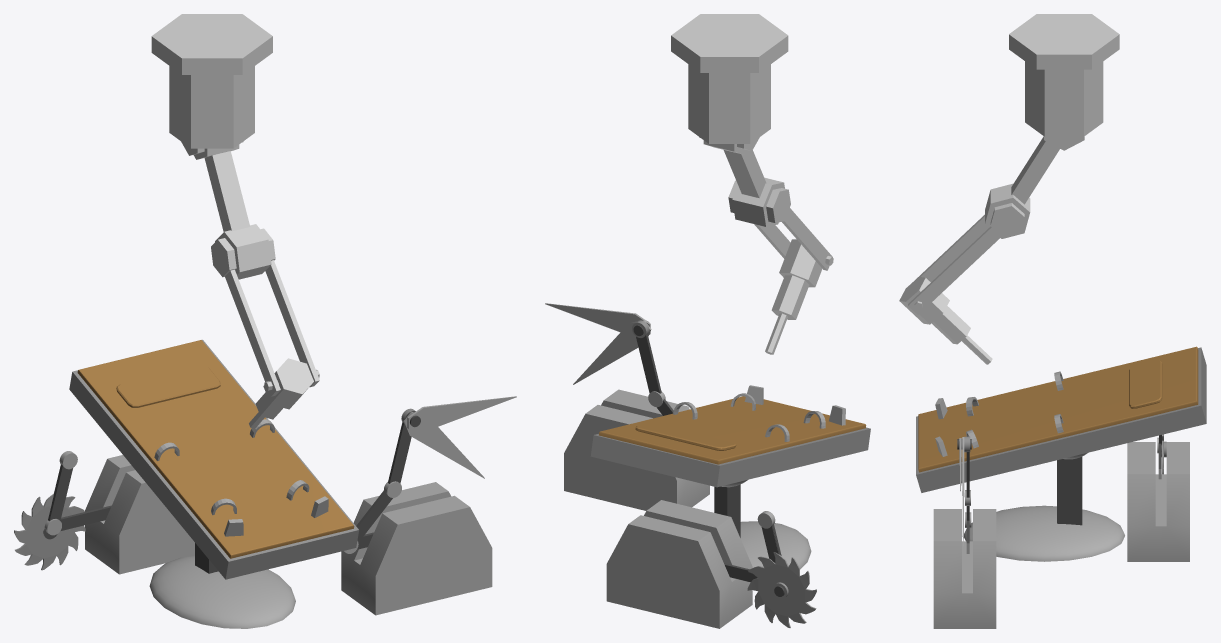
File: operatingTable_laser.fbx
3 views of the same model, side by side, from view 1: azimuth 30°, elevation 25°; view 2: azimuth 150°, elevation 25°; view 3: azimuth 270°, elevation 25° (orthographic). The views are drawn at different scales.
Parts seen in each view (by area): view 1: pCube1, pCube12, Base, pCube11, pSphere1, ArmUpper, polySurface1, pCube2, ArmLower, Head, pCube10, pCube9 (+2 smaller); view 2: pCube1, pCube11, Base, pCube12, ArmUpper, polySurface1, Head, pSphere1, ArmLower, pCube10, pCube2, pCube9 (+2 smaller); view 3: pCube1, Base, pCube12, pCube11, pSphere1, ArmUpper, Head, pCube5, ArmLower, pCube2.
Part boxes in pixels (bbox=[...]): pCube1: bbox=[69, 339, 358, 579]; pCube12: bbox=[341, 482, 492, 615]; Base: bbox=[151, 14, 272, 148]; pCube11: bbox=[85, 455, 194, 574]; pSphere1: bbox=[149, 555, 295, 628]; ArmUpper: bbox=[211, 224, 319, 396]; polySurface1: bbox=[14, 494, 85, 570]; pCube2: bbox=[116, 365, 220, 407]; ArmLower: bbox=[181, 141, 250, 231]; Head: bbox=[249, 358, 319, 428]; pCube10: bbox=[407, 396, 516, 431]; pCube9: bbox=[404, 412, 484, 478]; pCube1: bbox=[590, 396, 870, 487]; pCube11: bbox=[606, 500, 752, 628]; Base: bbox=[671, 14, 788, 143]; pCube12: bbox=[564, 389, 709, 510]; ArmUpper: bbox=[728, 177, 832, 270]; polySurface1: bbox=[747, 552, 816, 627]; Head: bbox=[765, 239, 833, 354]; pSphere1: bbox=[740, 521, 811, 569]; ArmLower: bbox=[699, 137, 766, 198]; pCube10: bbox=[545, 303, 650, 334]; pCube2: bbox=[635, 423, 736, 450]; pCube9: bbox=[573, 320, 651, 384]; pCube1: bbox=[916, 346, 1206, 492]; Base: bbox=[1009, 14, 1119, 136]; pCube12: bbox=[933, 509, 996, 628]; pCube11: bbox=[1127, 442, 1189, 561]; pSphere1: bbox=[964, 505, 1124, 561]; ArmUpper: bbox=[908, 183, 1030, 314]; Head: bbox=[899, 276, 992, 364]; pCube5: bbox=[1057, 457, 1082, 525]; ArmLower: bbox=[1011, 136, 1084, 204]; pCube2: bbox=[1129, 360, 1162, 408].
Size of the model in its own units: 2.91 by 3.9 by 2.17.
